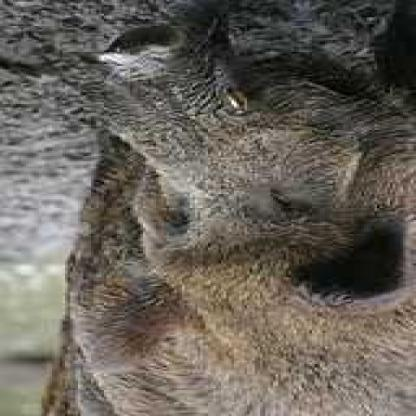boar: (51, 15, 415, 416)
